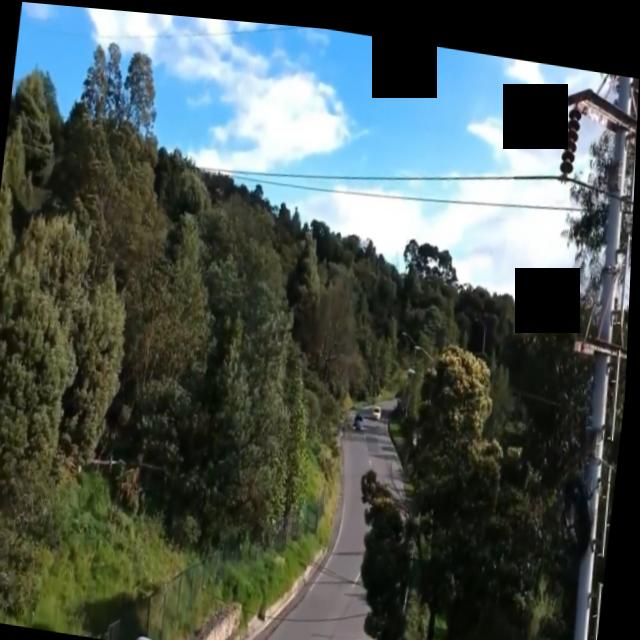Pole: (495, 53, 639, 640)
Tree: (351, 335, 521, 640), (0, 201, 135, 530), (189, 260, 339, 550), (115, 199, 224, 503), (45, 12, 170, 226), (0, 59, 63, 280), (385, 232, 474, 363)
